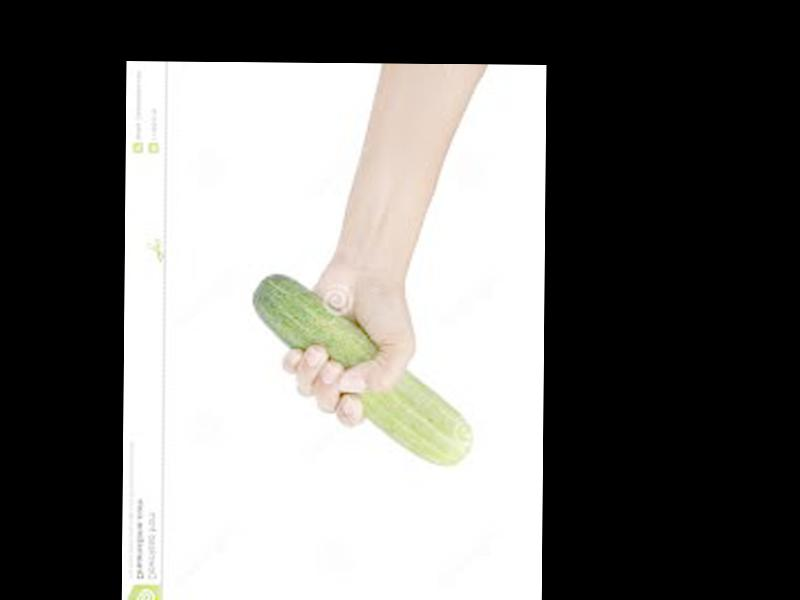Cucumber: (250, 269, 472, 465)
